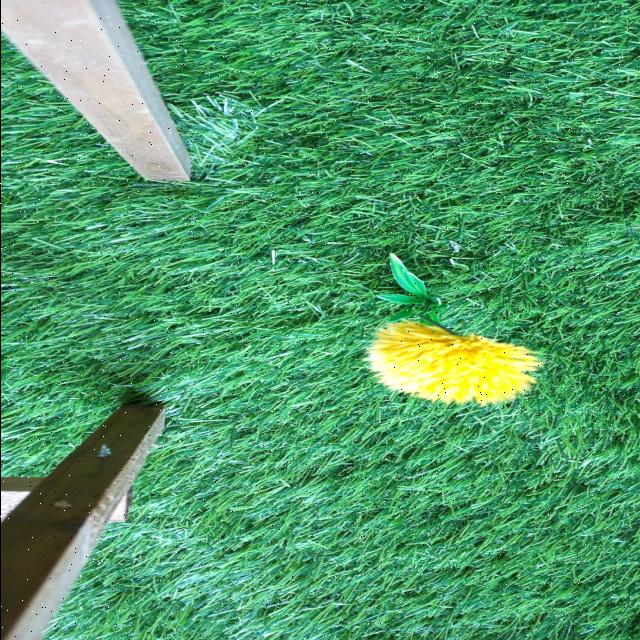base: (371, 257, 448, 327)
flower: (368, 325, 534, 403)
